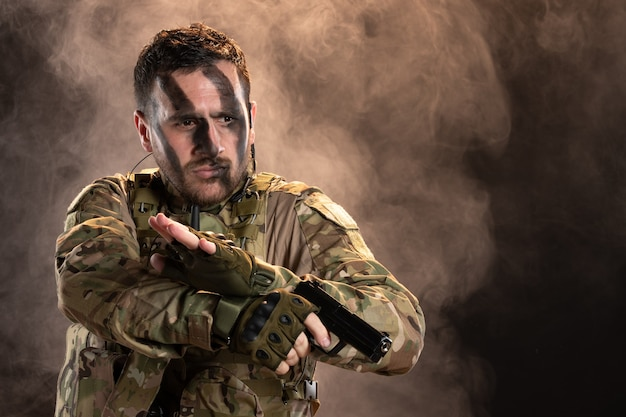gun: (289, 279, 395, 362)
